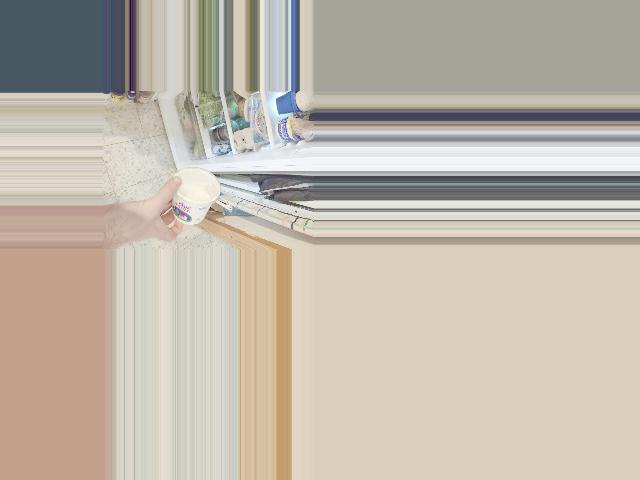cotage: (170, 169, 215, 224)
